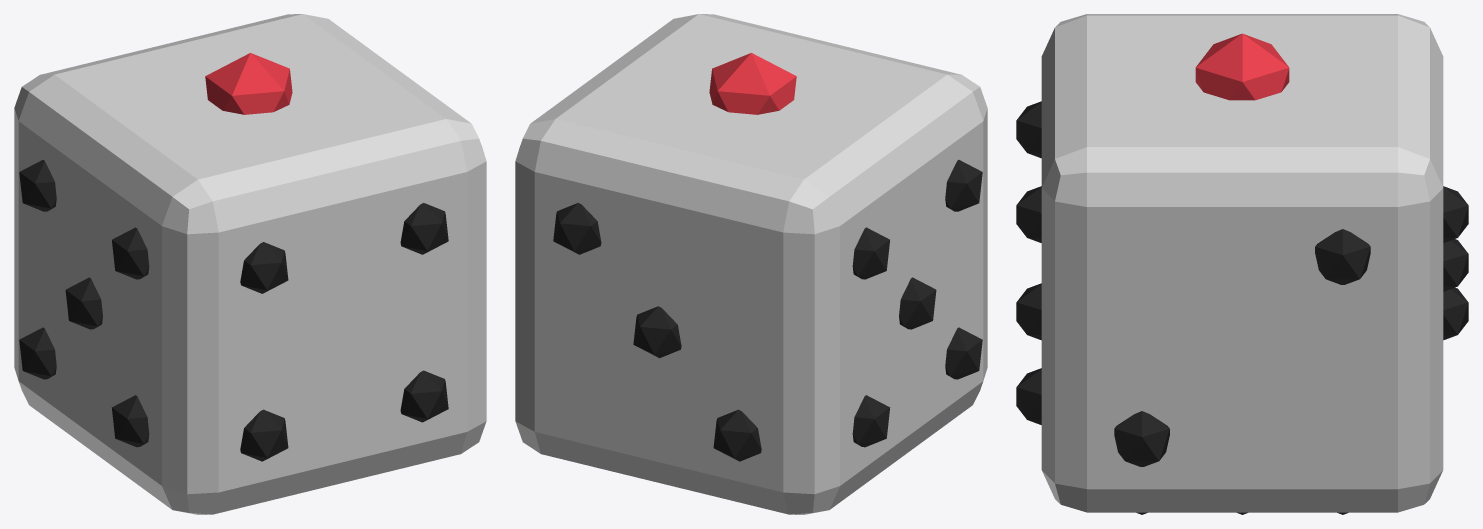
Rendered from die.glb.
3 renders of one model, left to right at view 1: azimuth 30°, elevation 25°; view 2: azimuth 150°, elevation 25°; view 3: azimuth 270°, elevation 25°, orthographic. The views are drawn at different scales.
Visible parts, largest first — view 1: Cube, Icosphere.021, Icosphere.020, Icosphere.017, Icosphere.018, Icosphere.019, Icosphere.010, Icosphere.013, Icosphere.009, Icosphere.011, Icosphere.012; view 2: Cube, Icosphere.021, Icosphere.014, Icosphere.016, Icosphere.015, Icosphere.010, Icosphere.009, Icosphere.013, Icosphere.011, Icosphere.012; view 3: Cube, Icosphere.021, Icosphere.007, Icosphere.008, Icosphere.017, Icosphere.019, Icosphere.016, Icosphere.018, Icosphere.020, Icosphere.014, Icosphere.015.
Boxes of the visible parts, left/top/right/bottom form: Cube: left=14, top=14, right=486, bottom=514; Icosphere.021: left=205, top=53, right=292, bottom=114; Icosphere.020: left=400, top=370, right=448, bottom=422; Icosphere.017: left=240, top=409, right=288, bottom=461; Icosphere.018: left=400, top=203, right=448, bottom=254; Icosphere.019: left=240, top=242, right=288, bottom=293; Icosphere.010: left=65, top=277, right=102, bottom=329; Icosphere.013: left=19, top=327, right=56, bottom=379; Icosphere.009: left=111, top=395, right=149, bottom=447; Icosphere.011: left=19, top=160, right=56, bottom=211; Icosphere.012: left=112, top=227, right=149, bottom=279; Cube: left=515, top=14, right=987, bottom=514; Icosphere.021: left=709, top=53, right=796, bottom=114; Icosphere.014: left=713, top=409, right=761, bottom=461; Icosphere.016: left=553, top=203, right=601, bottom=254; Icosphere.015: left=633, top=306, right=681, bottom=358; Icosphere.010: left=899, top=277, right=936, bottom=329; Icosphere.009: left=945, top=327, right=982, bottom=379; Icosphere.013: left=852, top=395, right=890, bottom=447; Icosphere.011: left=852, top=227, right=889, bottom=279; Icosphere.012: left=945, top=160, right=982, bottom=211; Cube: left=1041, top=14, right=1443, bottom=512; Icosphere.021: left=1195, top=33, right=1289, bottom=100; Icosphere.007: left=1114, top=411, right=1169, bottom=466; Icosphere.008: left=1315, top=229, right=1370, bottom=284; Icosphere.017: left=1016, top=283, right=1041, bottom=340; Icosphere.019: left=1016, top=101, right=1041, bottom=158; Icosphere.016: left=1443, top=186, right=1468, bottom=242; Icosphere.018: left=1016, top=186, right=1041, bottom=242; Icosphere.020: left=1016, top=368, right=1041, bottom=424; Icosphere.014: left=1443, top=287, right=1468, bottom=340; Icosphere.015: left=1443, top=239, right=1468, bottom=291.
Bounding box in the file's own units: 1.81 × 1.93 × 1.8.
